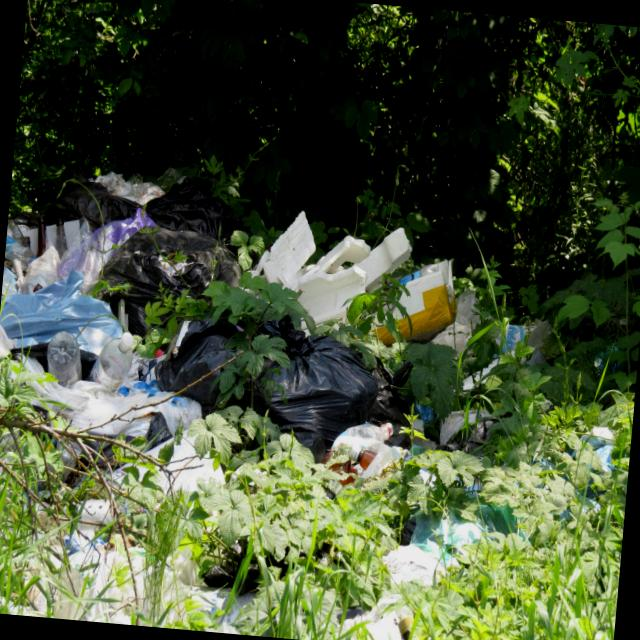garbage: (0, 141, 552, 640)
